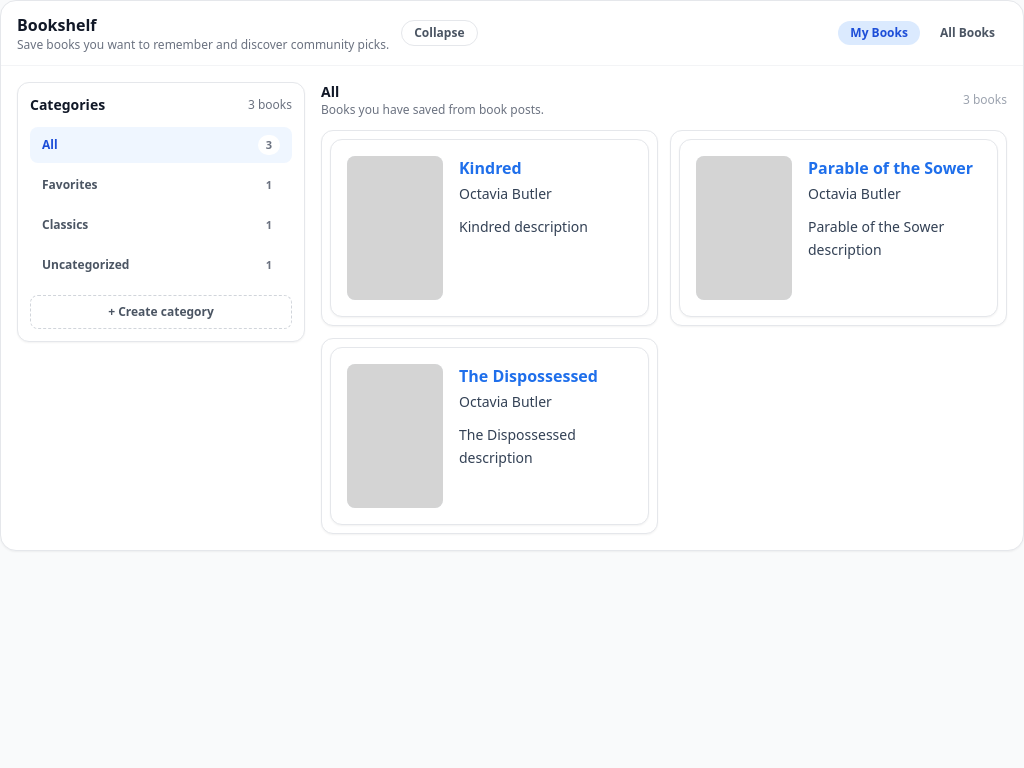
Test: Bookshelf › filters My Books by selected category
What coordinates should you click on to do the following:
click the button with test id "bookshelf-category-Classics"
I would click on:
 (65, 224)
Its box is [30,207,292,243].
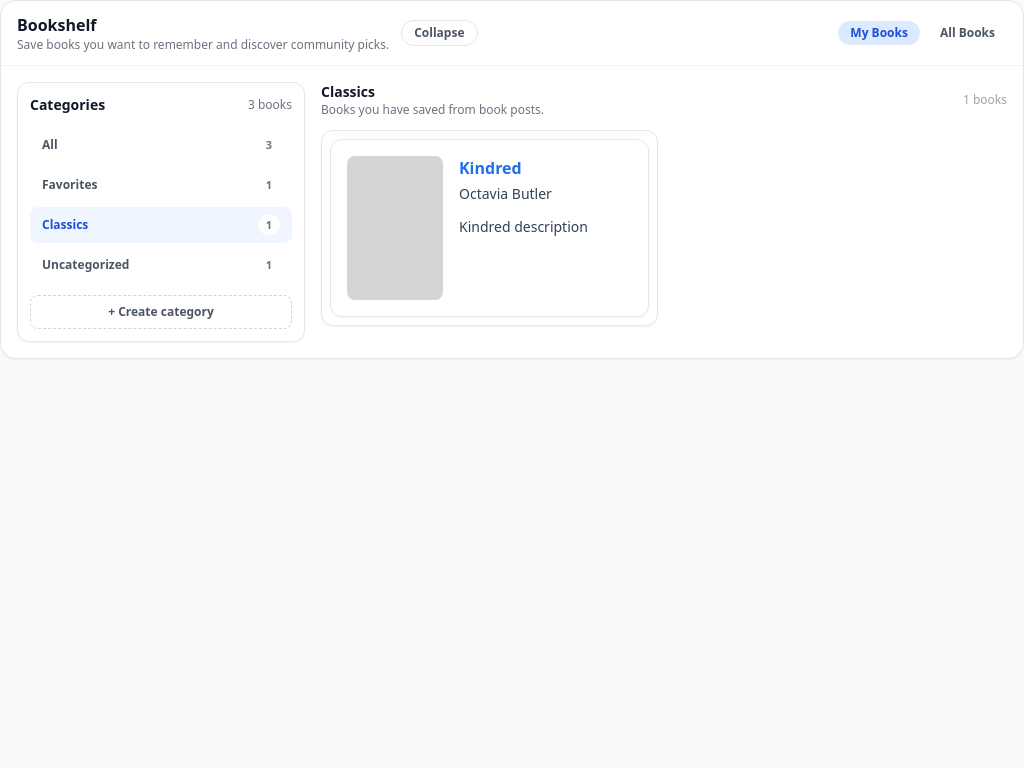
Check: the element with test id "bookshelf-my-item-post-2" is shown, box [321,130,658,326]
Check: the element with test id "bookshelf-my-item-post-1" is gone
